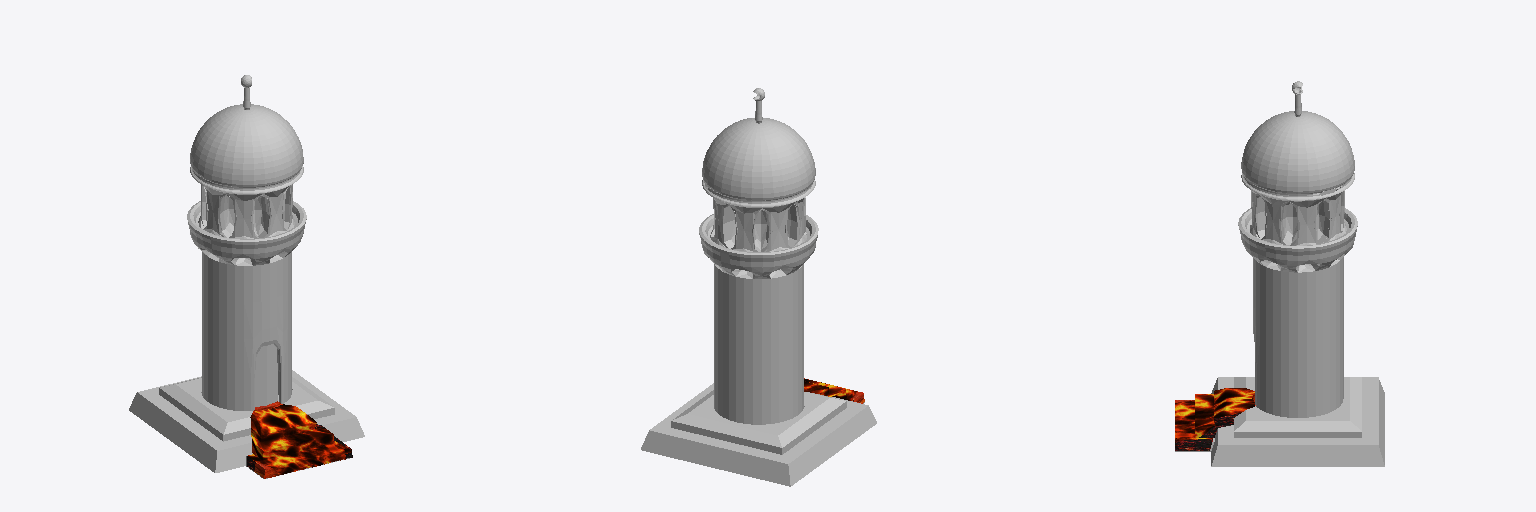
3 renders of one model, left to right at view 1: azimuth 30°, elevation 25°; view 2: azimuth 150°, elevation 25°; view 3: azimuth 270°, elevation 25°, orthographic.
Parts seen in each view (by area): view 1: Circle.002_Circle.001, Circle.000_Circle.005, Circle.007_Circle.008, Circle.003, Circle.005_Circle.006, Circle.001_Circle.000; view 2: Circle.002_Circle.001, Circle.000_Circle.005, Circle.007_Circle.008, Circle.003, Circle.005_Circle.006; view 3: Circle.002_Circle.001, Circle.000_Circle.005, Circle.007_Circle.008, Circle.003, Circle.005_Circle.006.
Part boxes in pixels (x1,y1,x2,y2): Circle.002_Circle.001: (202, 252, 291, 410); Circle.000_Circle.005: (129, 370, 364, 478); Circle.007_Circle.008: (190, 87, 303, 193); Circle.003: (187, 184, 306, 265); Circle.005_Circle.006: (247, 401, 352, 478); Circle.001_Circle.000: (255, 344, 277, 406); Circle.002_Circle.001: (714, 264, 803, 424); Circle.000_Circle.005: (641, 383, 876, 486); Circle.007_Circle.008: (702, 101, 815, 206); Circle.003: (699, 197, 818, 278); Circle.005_Circle.006: (804, 378, 864, 403); Circle.002_Circle.001: (1253, 257, 1343, 417); Circle.000_Circle.005: (1175, 377, 1384, 466); Circle.007_Circle.008: (1241, 94, 1354, 200); Circle.003: (1238, 190, 1357, 272); Circle.005_Circle.006: (1175, 388, 1255, 450).
Bounding box in the file's own units: 9.97 × 22.05 × 12.05.
7 materials, 1 textured.